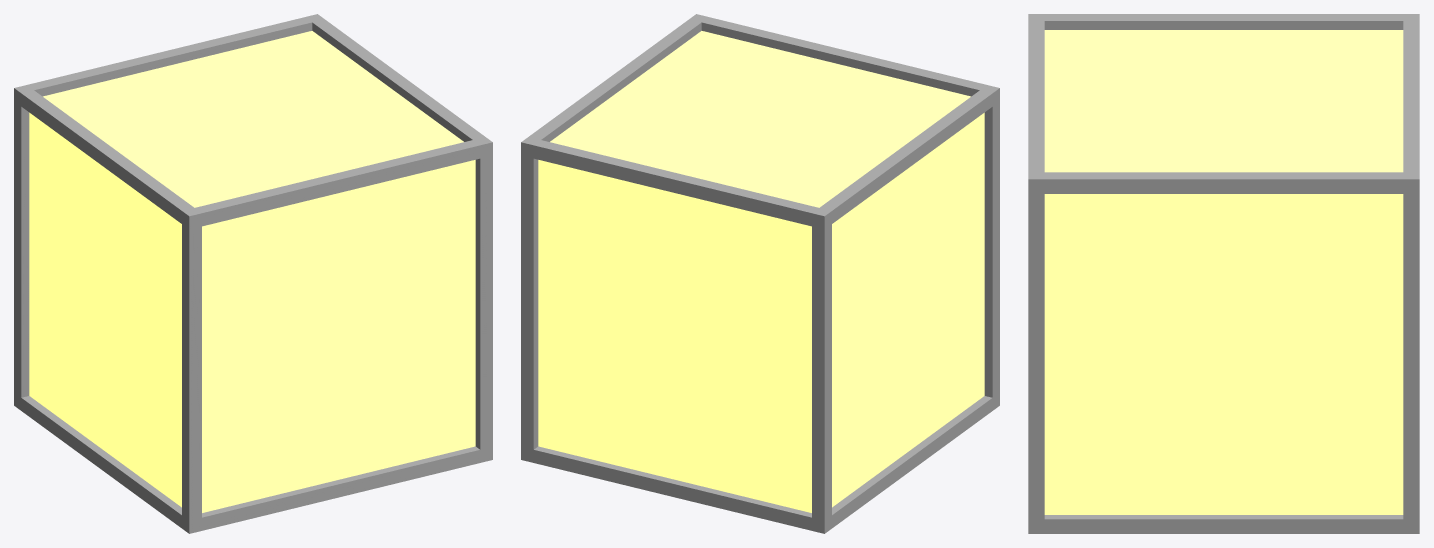
Rendered from SFI0410016.fbx.
3 renders of one model, left to right at view 1: azimuth 30°, elevation 25°; view 2: azimuth 150°, elevation 25°; view 3: azimuth 270°, elevation 25°, orthographic. The views are drawn at different scales.
Visible parts, largest first — view 1: smSFI0410016; view 2: smSFI0410016; view 3: smSFI0410016.
Part boxes in pixels (bbox=[...]): smSFI0410016: bbox=[14, 14, 492, 533]; smSFI0410016: bbox=[521, 14, 999, 533]; smSFI0410016: bbox=[1028, 14, 1419, 533].
Bounding box in the file's own units: 100 × 100 × 100.
